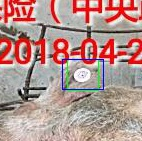text: (67, 59, 98, 90)
